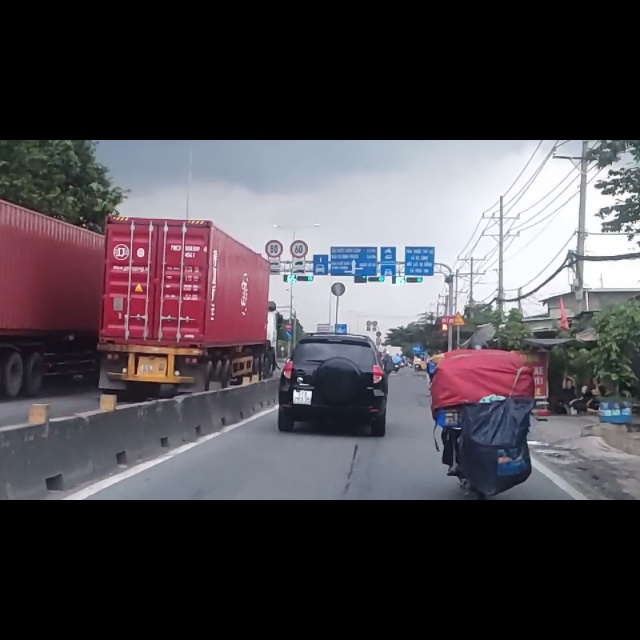bien_nguy_hiem: (290, 178, 309, 211), (265, 177, 283, 210), (451, 305, 466, 331), (285, 325, 292, 337), (285, 339, 292, 351)
